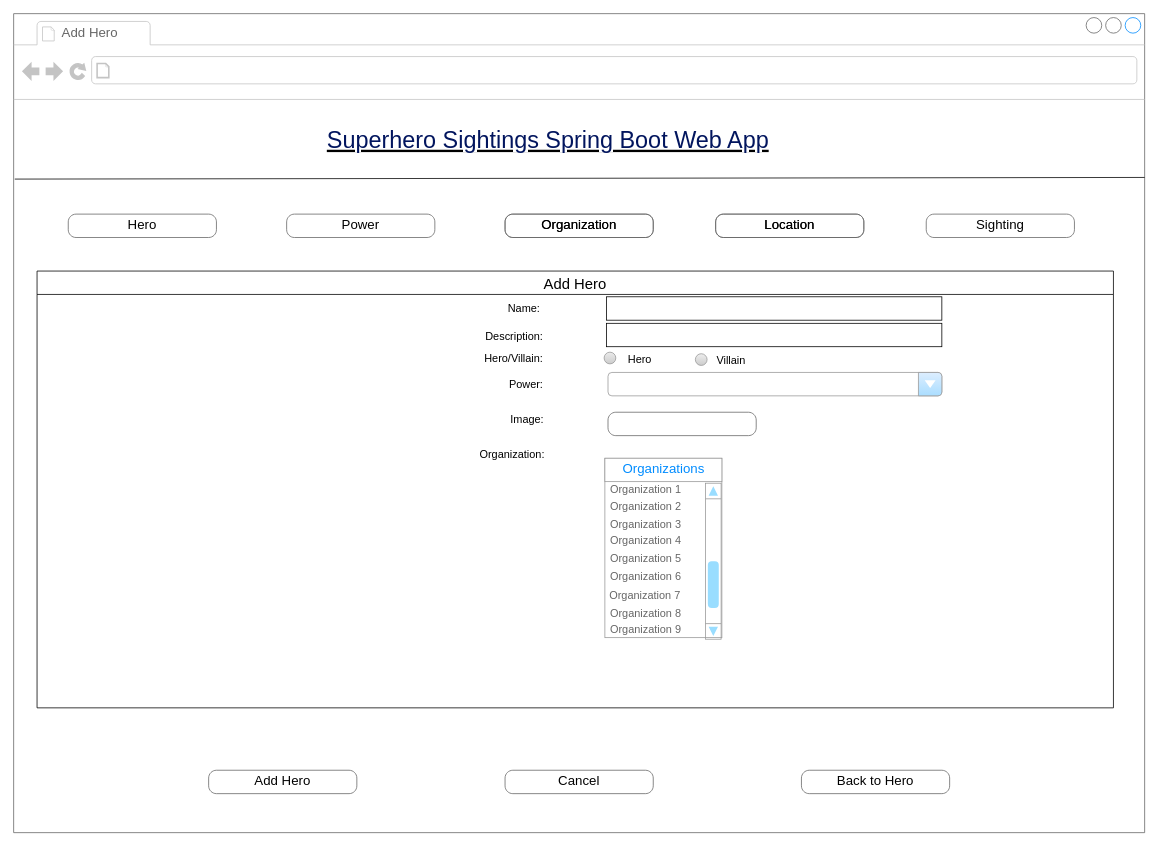
Image size: 1159x846. Some labels were removed from this diagram. Each missing label, with the box of its shape:
Choose Image: (607, 411, 756, 436)
https://www.default.com: (114, 60, 310, 81)
Select Power...........: (607, 372, 942, 396)
